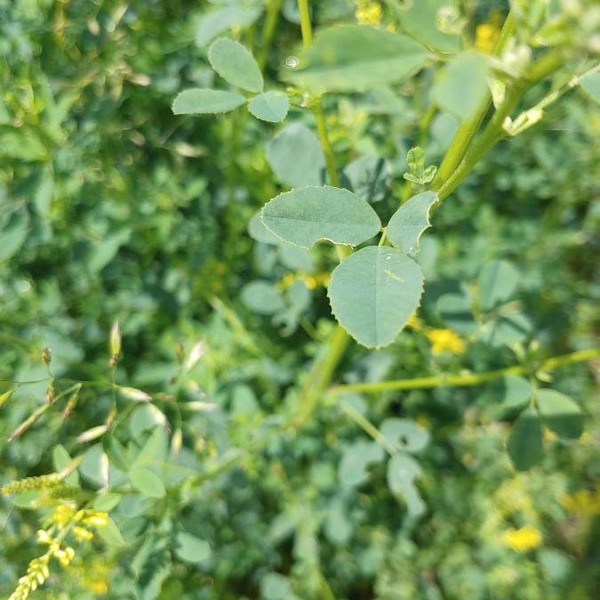obstacle: (156, 42, 554, 364), (41, 343, 252, 579)
